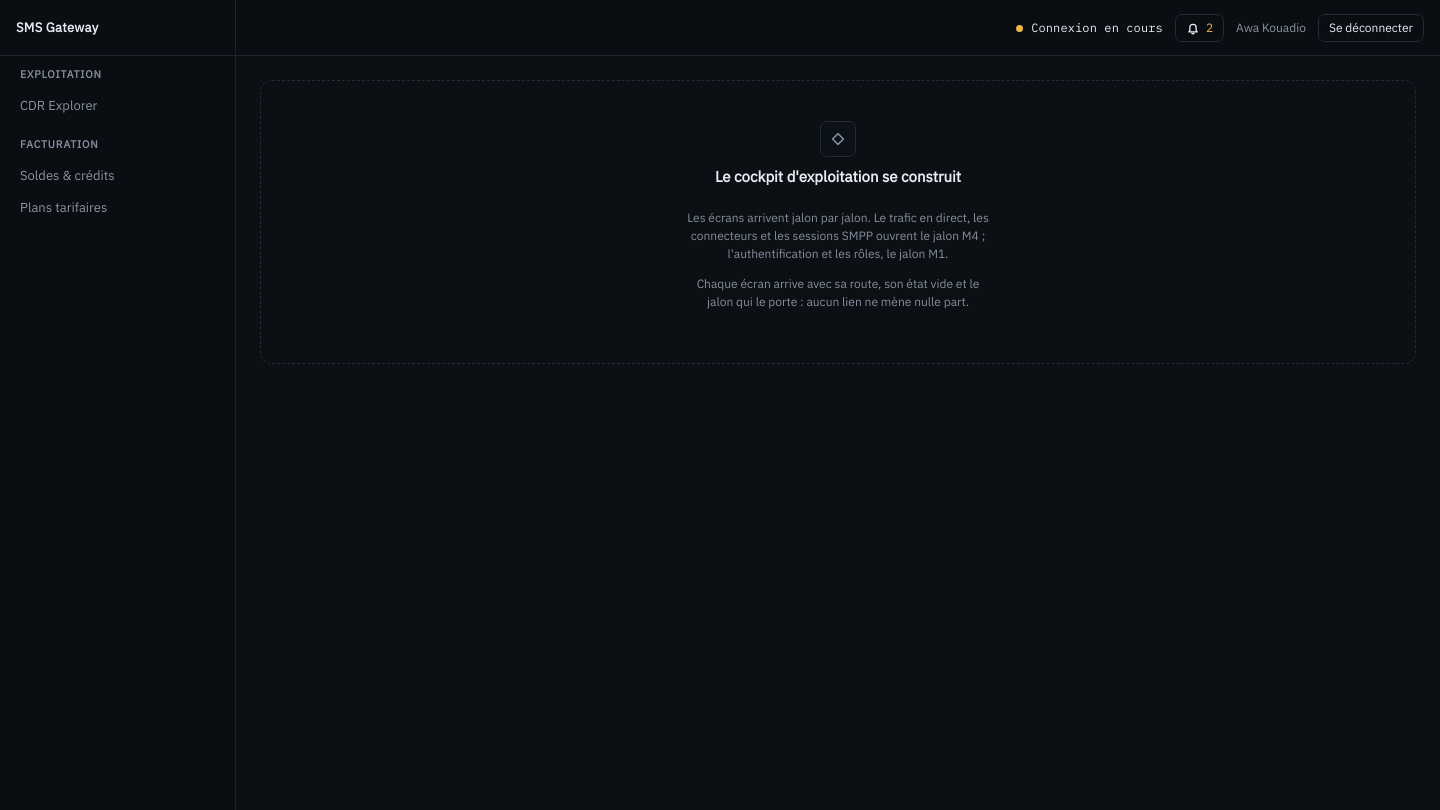
Test: the notification center › marks a notification read, and the count follows
Click the button named "Notifications" at (1200, 28), box [1175, 14, 1224, 42]
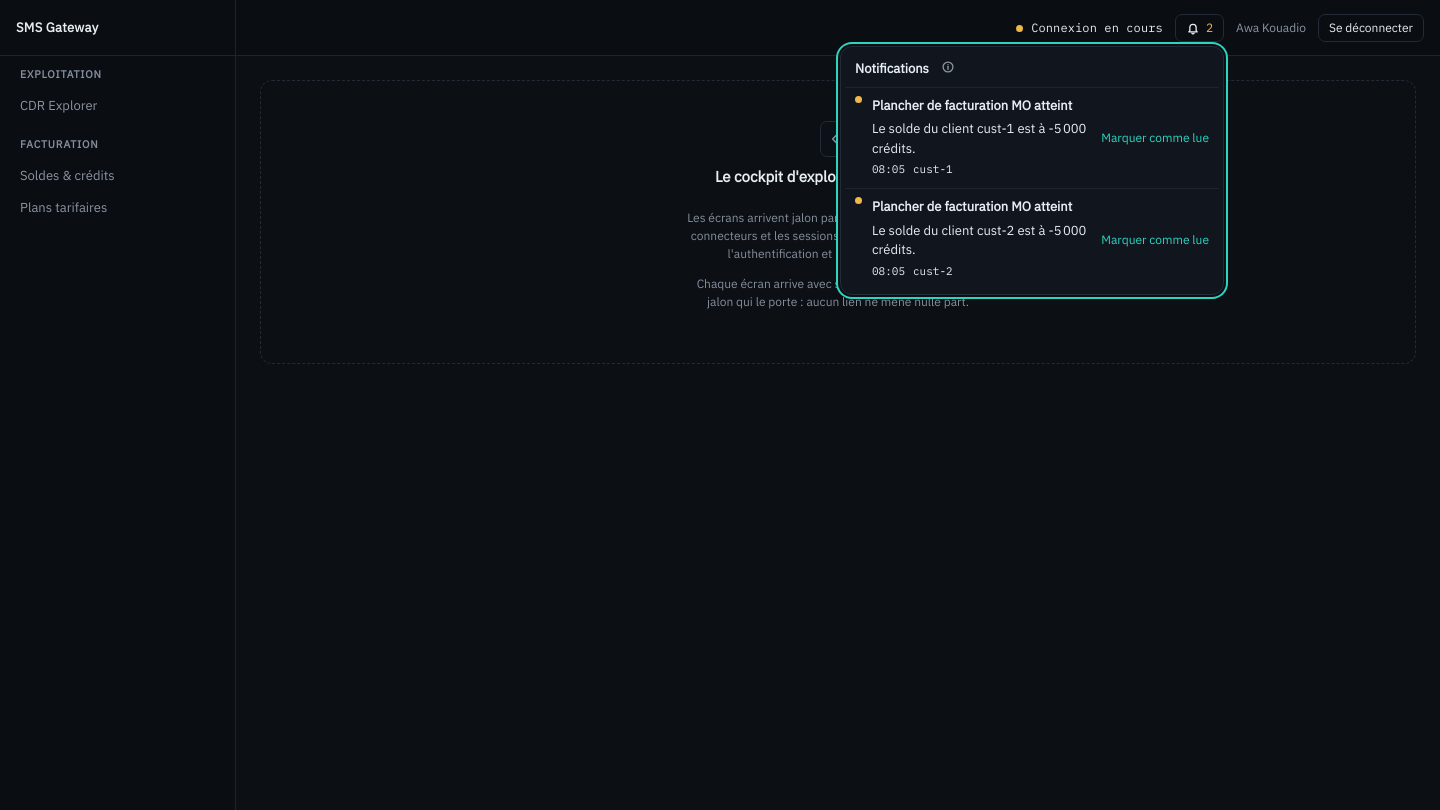
Click the 1st button "Marquer comme lue" at (1155, 138), box [1101, 96, 1209, 180]
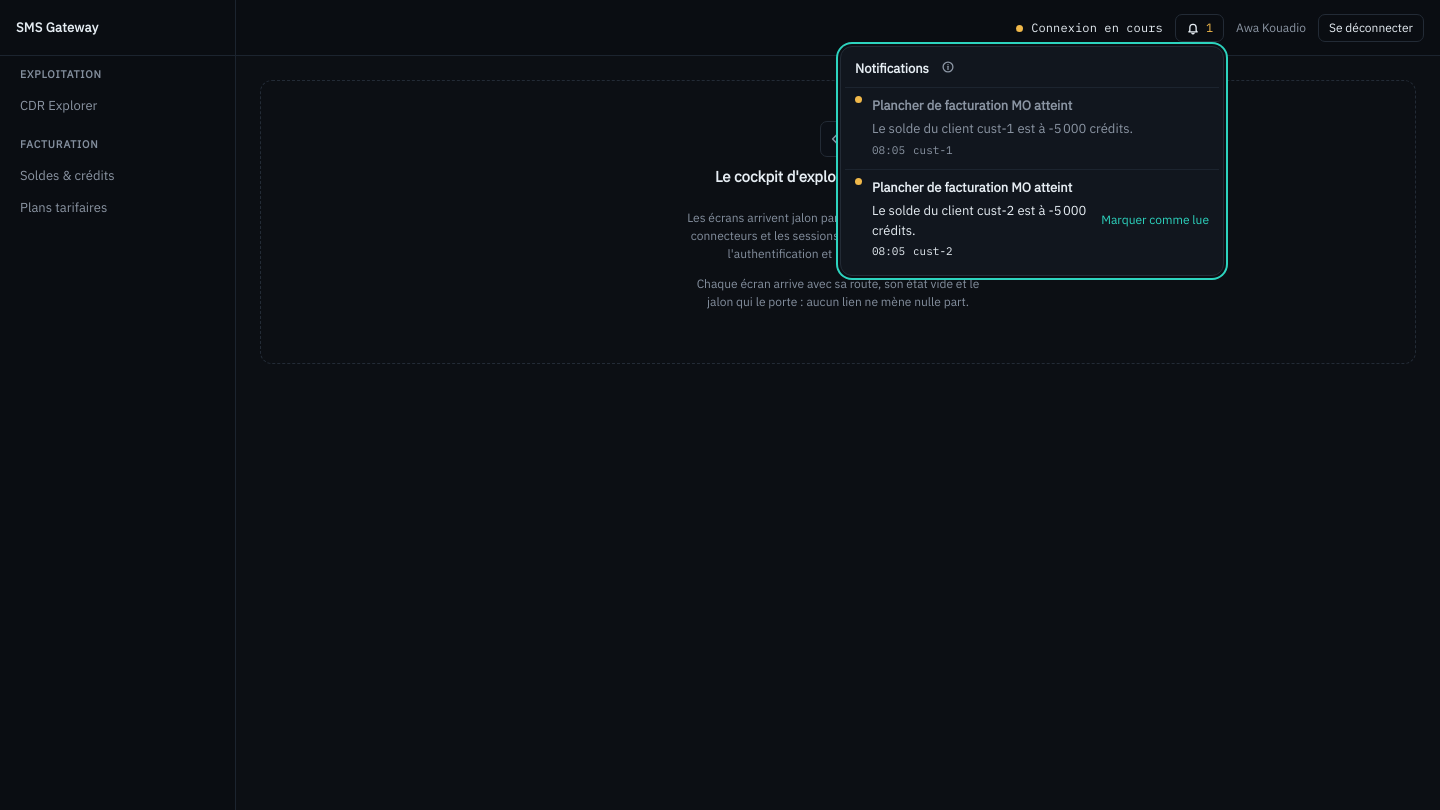
expect the button named "Notifications, 1 non lue" is shown: met, box [1175, 14, 1224, 42]
